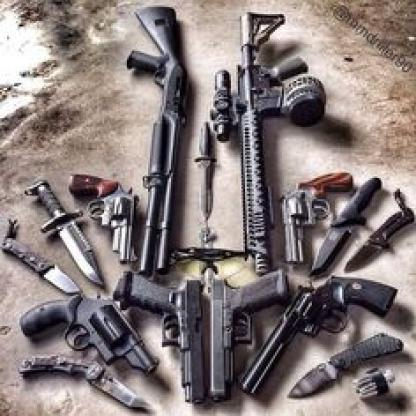Gun: (125, 2, 194, 279)
Knife: (22, 177, 106, 287), (287, 330, 406, 401), (18, 352, 152, 412), (313, 174, 383, 271), (343, 184, 416, 271), (2, 215, 82, 294), (194, 119, 218, 224)
Pistol: (210, 10, 328, 276), (234, 272, 398, 397), (111, 268, 208, 409), (19, 292, 161, 376), (208, 267, 295, 403), (277, 168, 354, 266), (68, 173, 140, 265)
